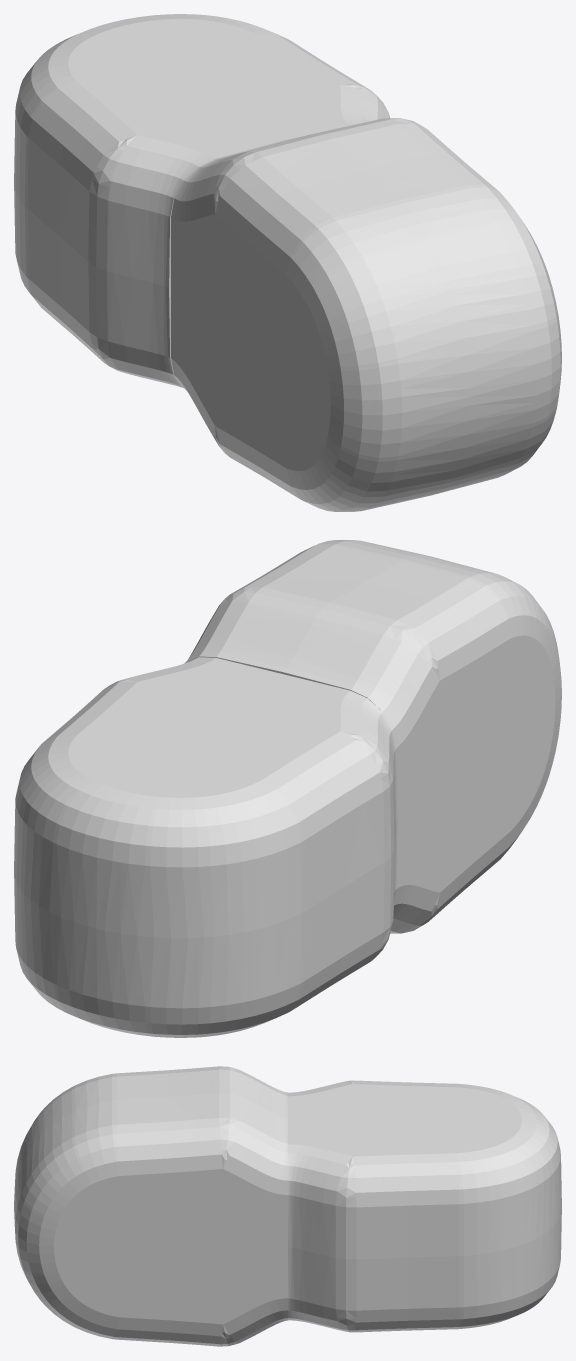
File: armlink4_viz.dae
3 views of the same model, one above another, from view 1: azimuth 30°, elevation 25°; view 2: azimuth 150°, elevation 25°; view 3: azimuth 270°, elevation 25° (orthographic). The views are drawn at different scales.
Visible parts, largest first — view 1: node; view 2: node; view 3: node.
Part boxes in pixels (<box>): node: <box>14,14,561,511</box>; node: <box>14,540,561,1037</box>; node: <box>14,1066,561,1346</box>.
Bounding box in the file's own units: 64.63 × 64.63 × 141.
Materials: 1 (1 with a texture image).
